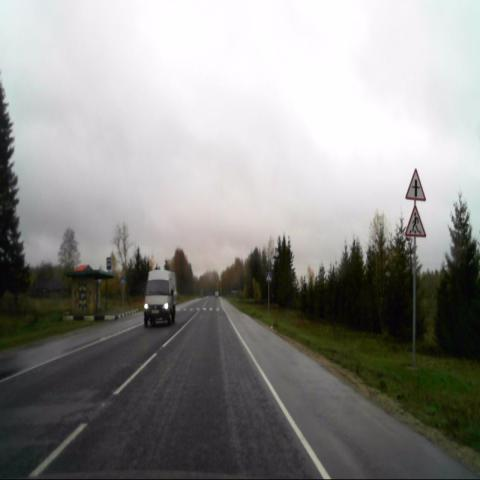2_3: (406, 168, 426, 203)
